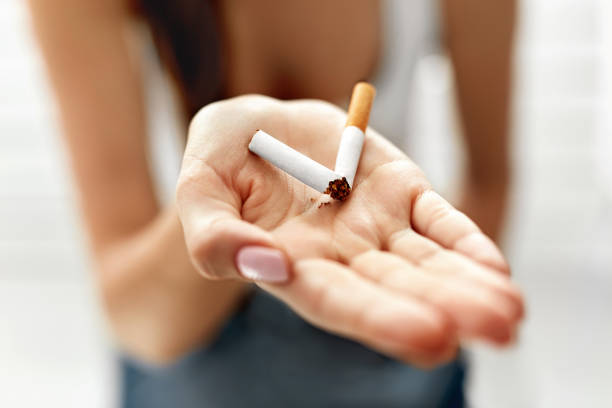cigarette: (246, 127, 351, 202), (332, 80, 377, 192)
